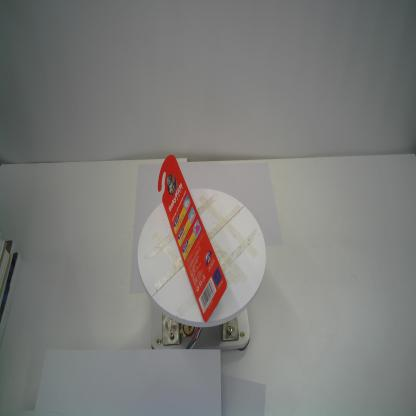Personal Hygiene: (157, 154, 228, 324)
